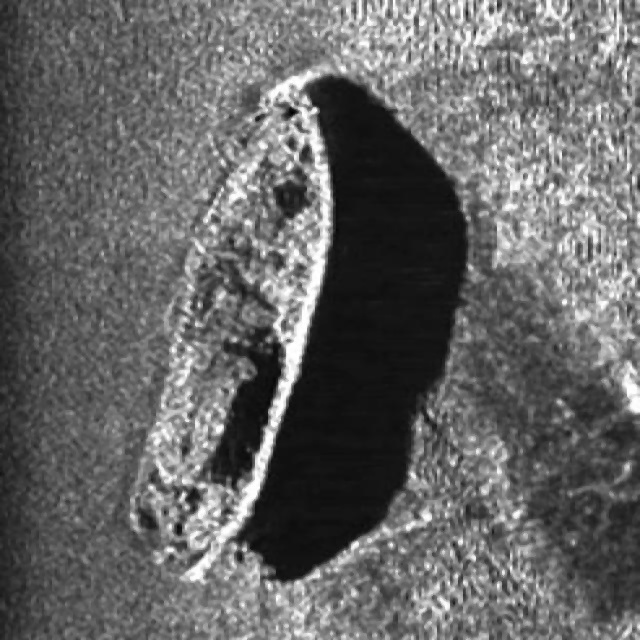Ship: (111, 58, 365, 594)
